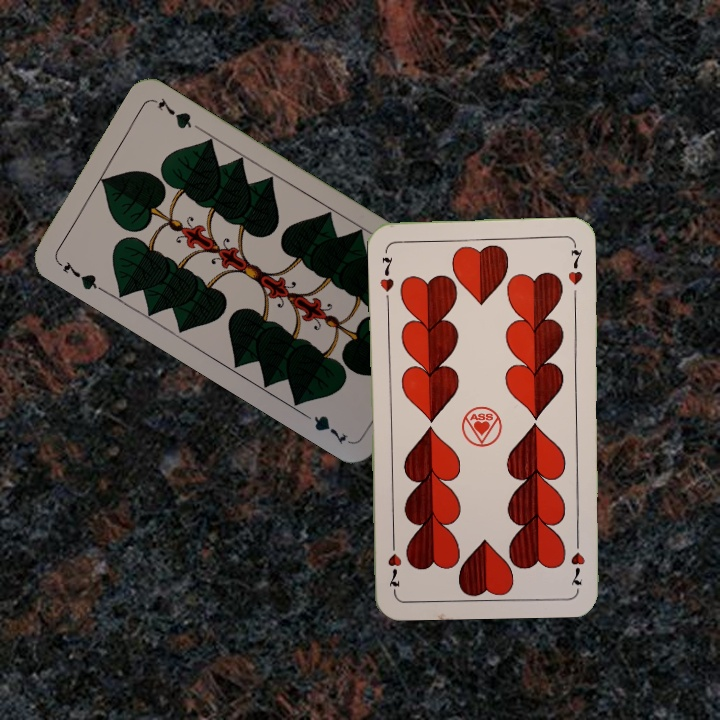G7: (52, 256, 106, 294)
H7: (566, 532, 587, 588), (376, 252, 397, 304)
